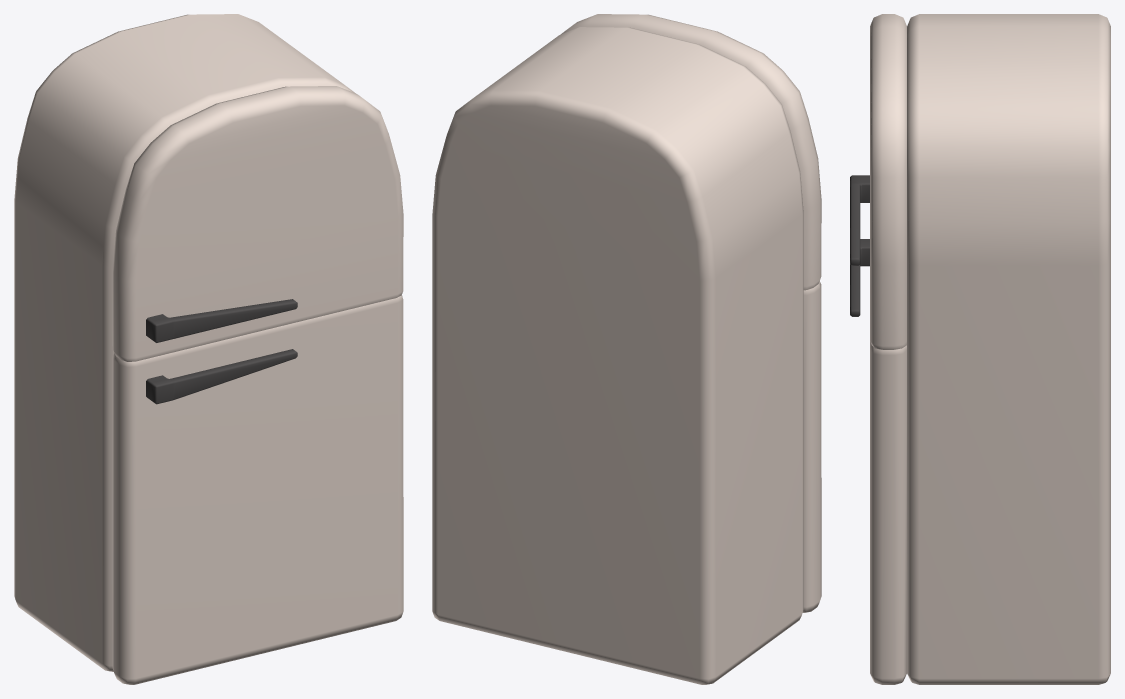
Rendered from Fridge_1.glb.
3 renders of one model, left to right at view 1: azimuth 30°, elevation 25°; view 2: azimuth 150°, elevation 25°; view 3: azimuth 270°, elevation 25°, orthographic. The views are drawn at different scales.
Visible parts, largest first — view 1: Fridge_1; view 2: Fridge_1; view 3: Fridge_1.
Boxes of the visible parts, x1,y1,x2,y2 form: Fridge_1: (14,14,403,684); Fridge_1: (432,14,821,684); Fridge_1: (850,14,1110,684).
Size of the model in its own units: 1.11 by 2.08 by 0.8556.
Materials: 1 (1 with a texture image).
